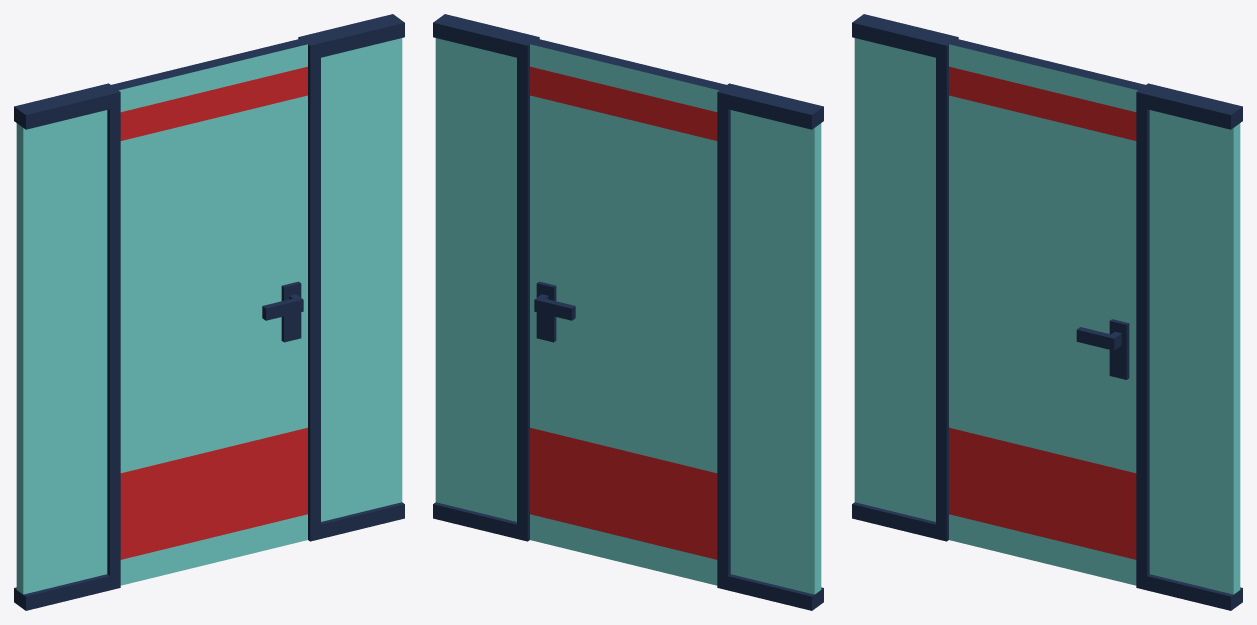
Rendered from graybox door 2x2.5.fbx.
3 renders of one model, left to right at view 1: azimuth 30°, elevation 25°; view 2: azimuth 150°, elevation 25°; view 3: azimuth 330°, elevation 25°, orthographic.
Parts seen in each view (by area): view 1: Door2x2frame, Door2x2; view 2: Door2x2frame, Door2x2; view 3: Door2x2frame, Door2x2.
Boxes of the visible parts, x1,y1,x2,y2 form: Door2x2frame: [14, 14, 404, 610]; Door2x2: [111, 38, 307, 585]; Door2x2frame: [433, 14, 823, 610]; Door2x2: [530, 38, 726, 585]; Door2x2frame: [852, 14, 1242, 610]; Door2x2: [949, 38, 1145, 585].
Size of the model in its own units: 2 by 2.5 by 0.2493.
